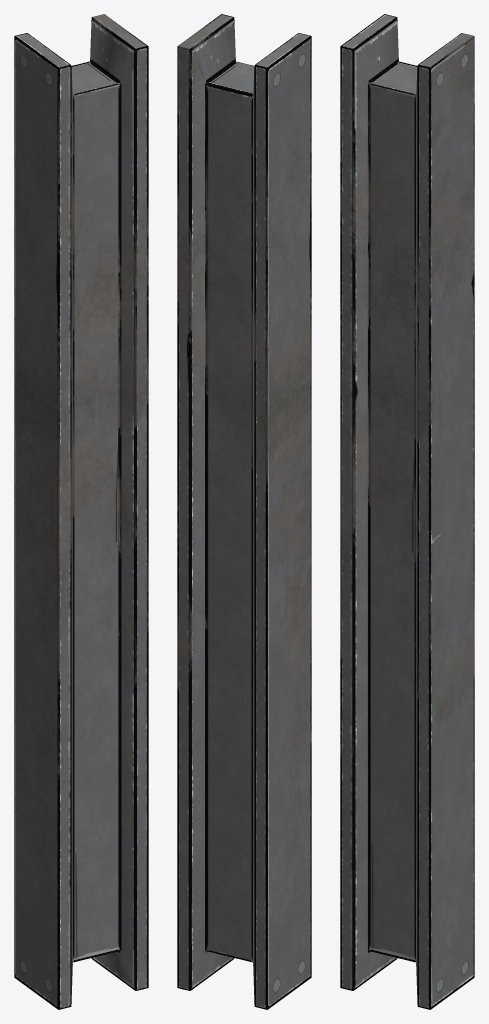
The model's file is large_steel_bar.glb.
3 renders of one model, left to right at view 1: azimuth 30°, elevation 25°; view 2: azimuth 150°, elevation 25°; view 3: azimuth 330°, elevation 25°, orthographic.
Visible parts, largest first — view 1: pCube64; view 2: pCube64; view 3: pCube64.
Part boxes in pixels (bbox=[...]): pCube64: bbox=[14, 14, 148, 1009]; pCube64: bbox=[177, 14, 311, 1009]; pCube64: bbox=[340, 14, 474, 1009].
Size of the model in its own units: 0.2001 by 2 by 0.1696.
Materials: 1 (1 with a texture image).
